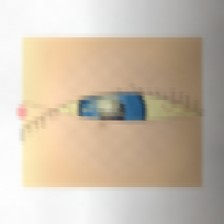corneal_ulcer: (86, 87, 129, 122)
